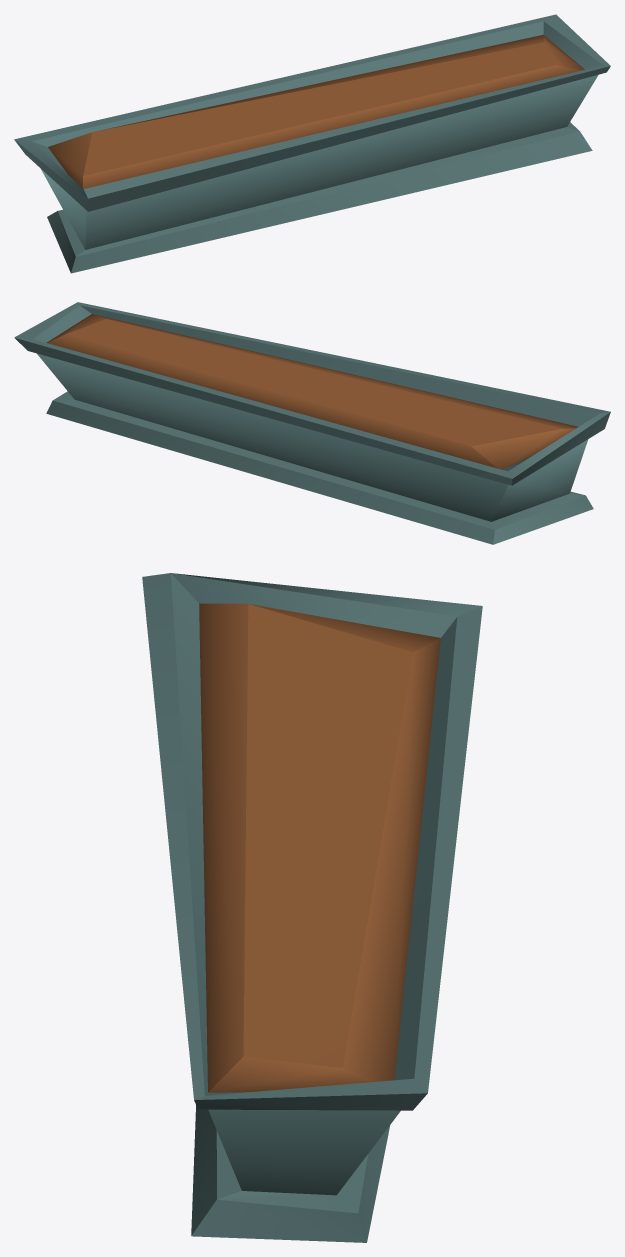
The model's file is c_deco_vase_rectangle_ab.fbx.
3 views of the same model, one above another, from view 1: azimuth 30°, elevation 25°; view 2: azimuth 150°, elevation 25°; view 3: azimuth 270°, elevation 25° (orthographic). The views are drawn at different scales.
Parts seen in each view (by area): view 1: c_deco_vase_rectangle_ab; view 2: c_deco_vase_rectangle_ab; view 3: c_deco_vase_rectangle_ab.
Boxes of the visible parts, x1,y1,x2,y2 form: c_deco_vase_rectangle_ab: (14,14,610,273); c_deco_vase_rectangle_ab: (14,302,610,544); c_deco_vase_rectangle_ab: (142,573,482,1242).
Bounding box in the file's own units: 2.23 × 0.3575 × 0.6248.
